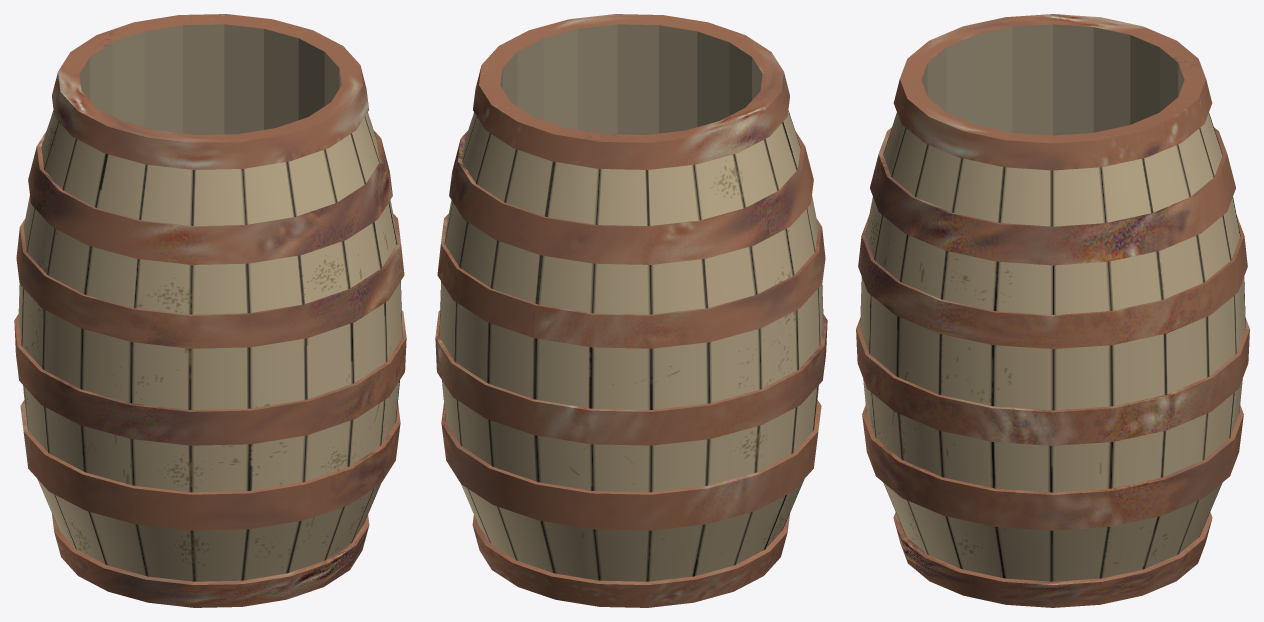
Rendered from barrel.fbx.
3 views of the same model, side by side, from view 1: azimuth 30°, elevation 25°; view 2: azimuth 150°, elevation 25°; view 3: azimuth 270°, elevation 25° (orthographic).
Parts seen in each view (by area): view 1: pCylinder1; view 2: pCylinder1; view 3: pCylinder1.
Boxes of the visible parts, left/top/right/bottom form: pCylinder1: left=14, top=14, right=406, bottom=607; pCylinder1: left=435, top=14, right=827, bottom=607; pCylinder1: left=856, top=14, right=1249, bottom=607.
Size of the model in its own units: 2.67 by 3.48 by 2.67.
1 material, 1 textured.
